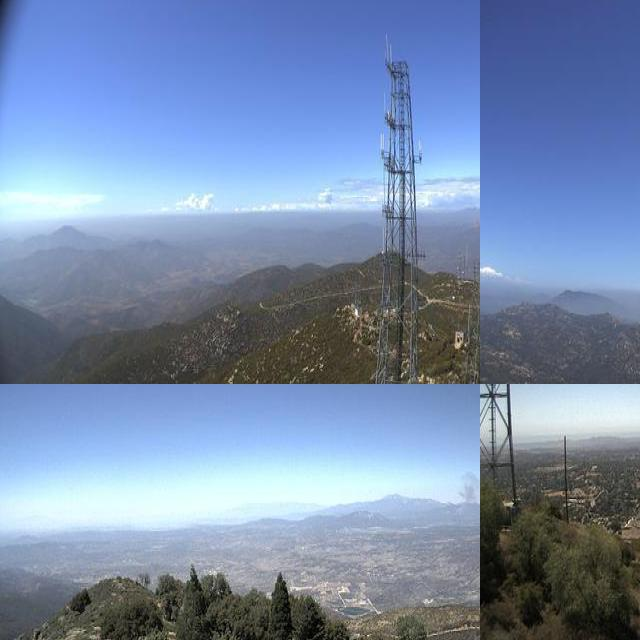smoke: (454, 464, 480, 505)
